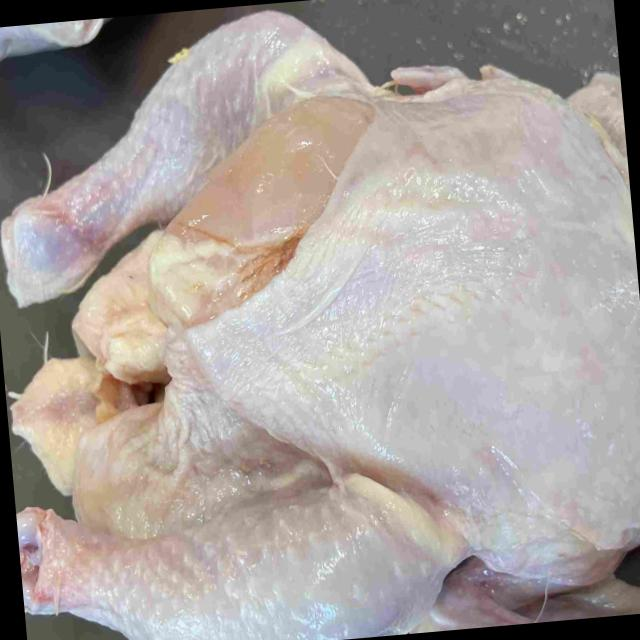breast: (154, 88, 640, 561)
leg: (1, 10, 365, 304), (16, 472, 456, 640)
neck: (572, 71, 628, 171)
wing: (412, 553, 640, 633)
